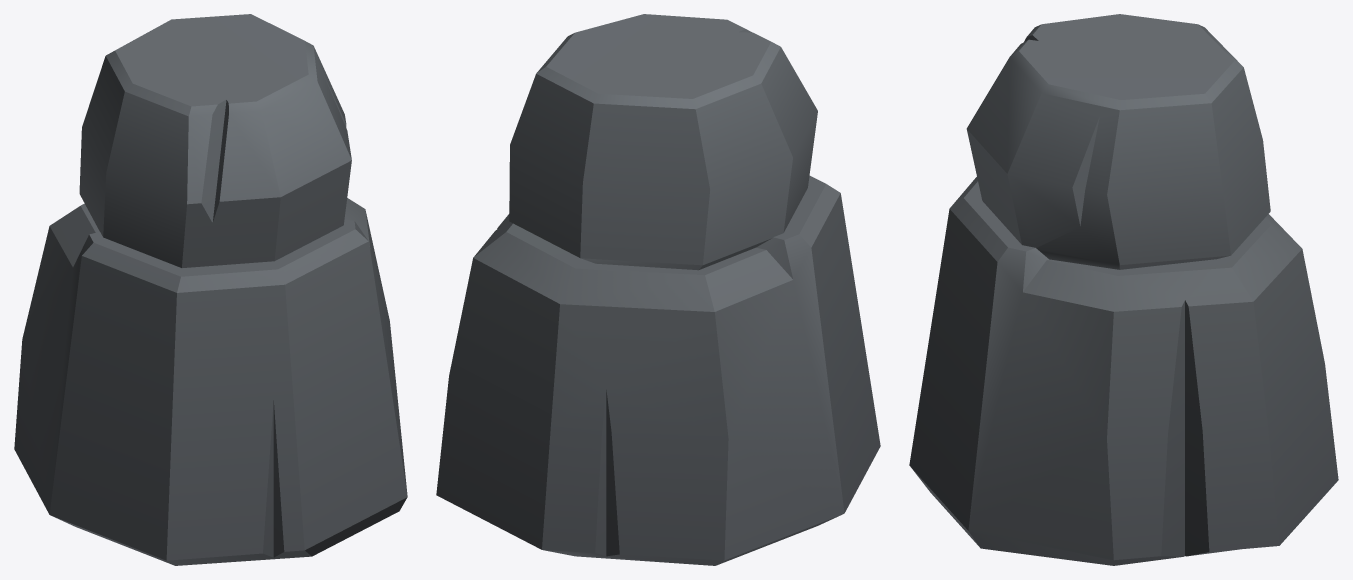
File: Rock_14.fbx
3 renders of one model, left to right at view 1: azimuth 30°, elevation 25°; view 2: azimuth 150°, elevation 25°; view 3: azimuth 270°, elevation 25°, orthographic. The views are drawn at different scales.
Visible parts, largest first — view 1: Rock_14; view 2: Rock_14; view 3: Rock_14.
Part boxes in pixels (left/top/right/bottom): Rock_14: left=14, top=14, right=407, bottom=565; Rock_14: left=436, top=14, right=880, bottom=565; Rock_14: left=909, top=14, right=1338, bottom=565.
Bounding box in the file's own units: 259 × 305 × 272.
